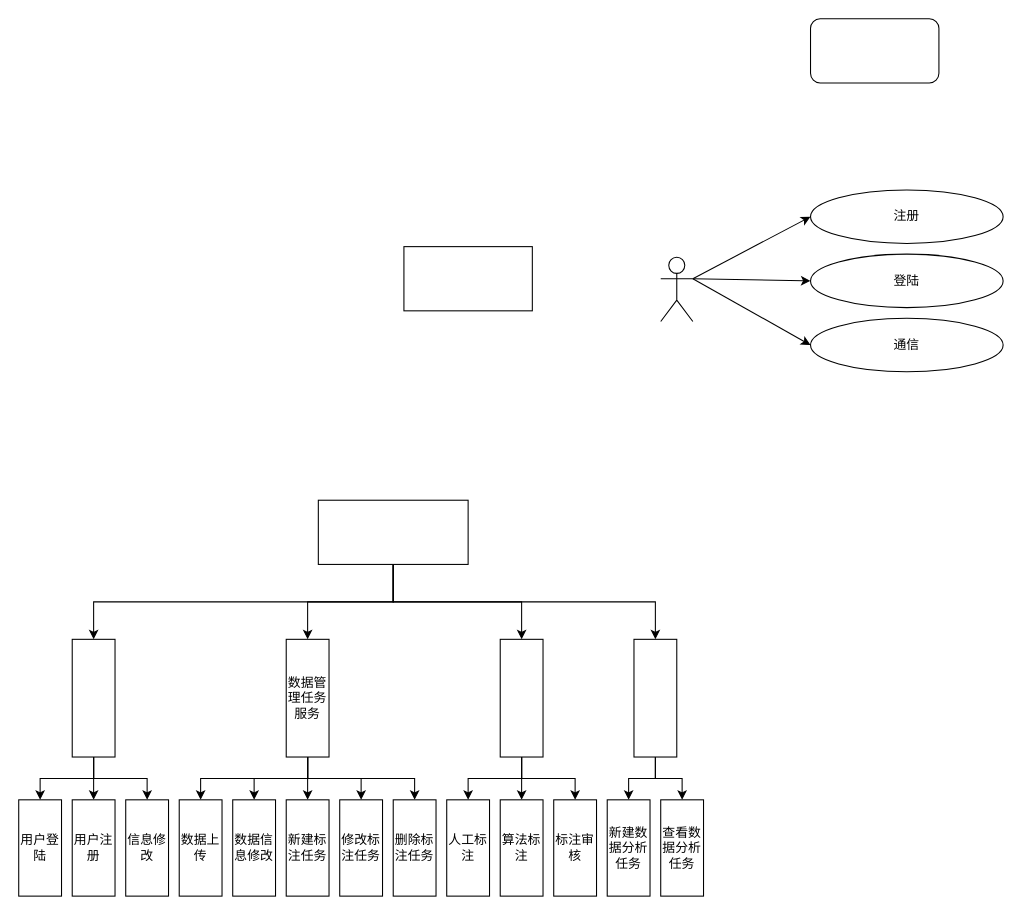
Image size: 1022x915. Some labels were removed from this diagram. Each missing label, with the centre of its shape:
"数据分析与可视化服务" belongs at [655,697].
"数据标注服务" belongs at [521,697].
"数据标注管理平台" belongs at [392,531].
"用户" belongs at [676,289].
"用户服务" belongs at [93,697].
